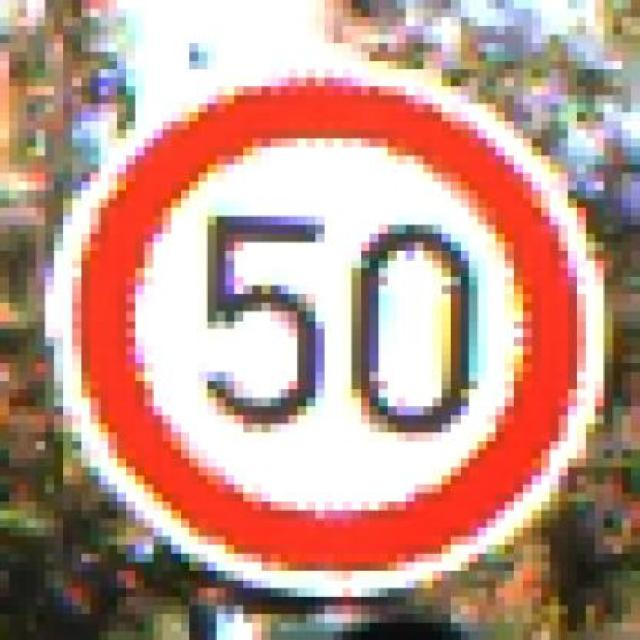Speed limit 50: (75, 70, 604, 587)
